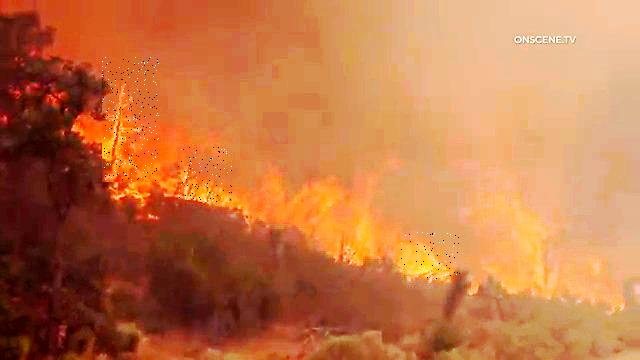fire: (103, 57, 160, 182), (178, 144, 232, 202), (400, 232, 460, 280)
